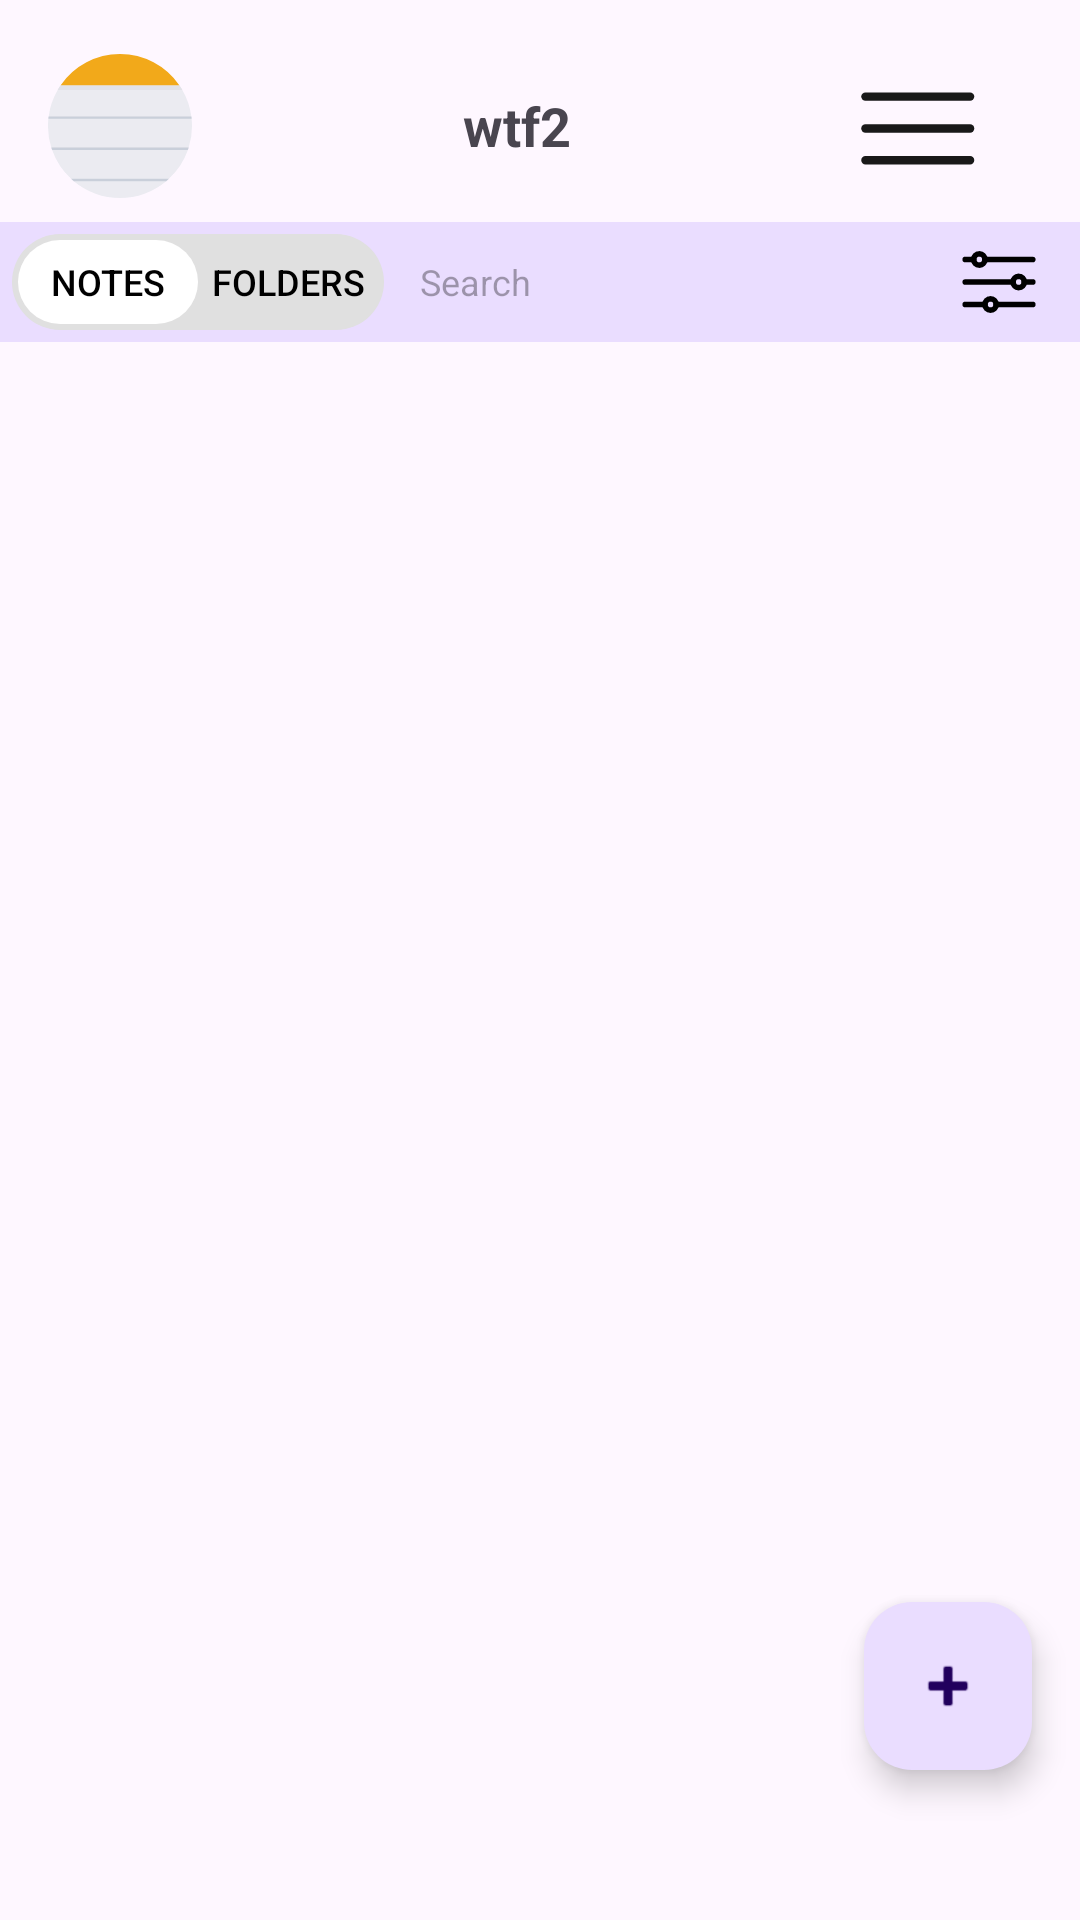

Icons on this 1080 × 1920 Android screen, each with its box as (x1=x1, y1=y1, x2=x2, y2=y2):
Add button: (x1=864, y1=1602, x2=1032, y2=1770)
Filter button: (x1=962, y1=251, x2=1036, y2=313)
menu: (x1=861, y1=92, x2=975, y2=165)
